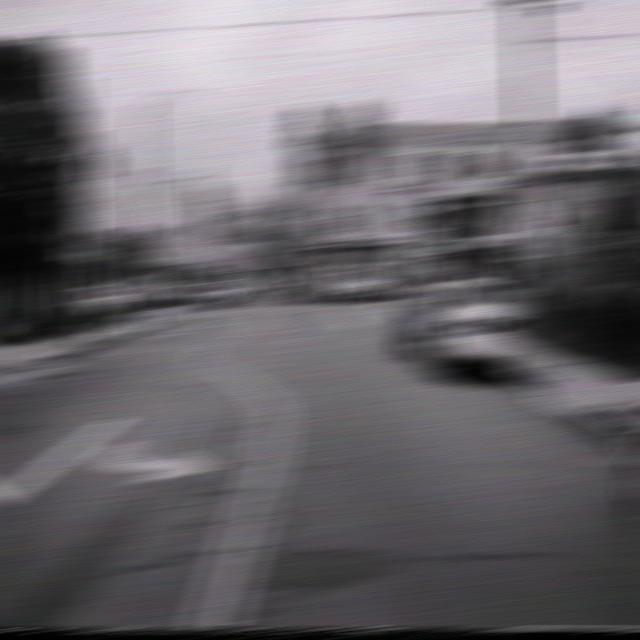pedestrianCrossing: (505, 119, 552, 181)
